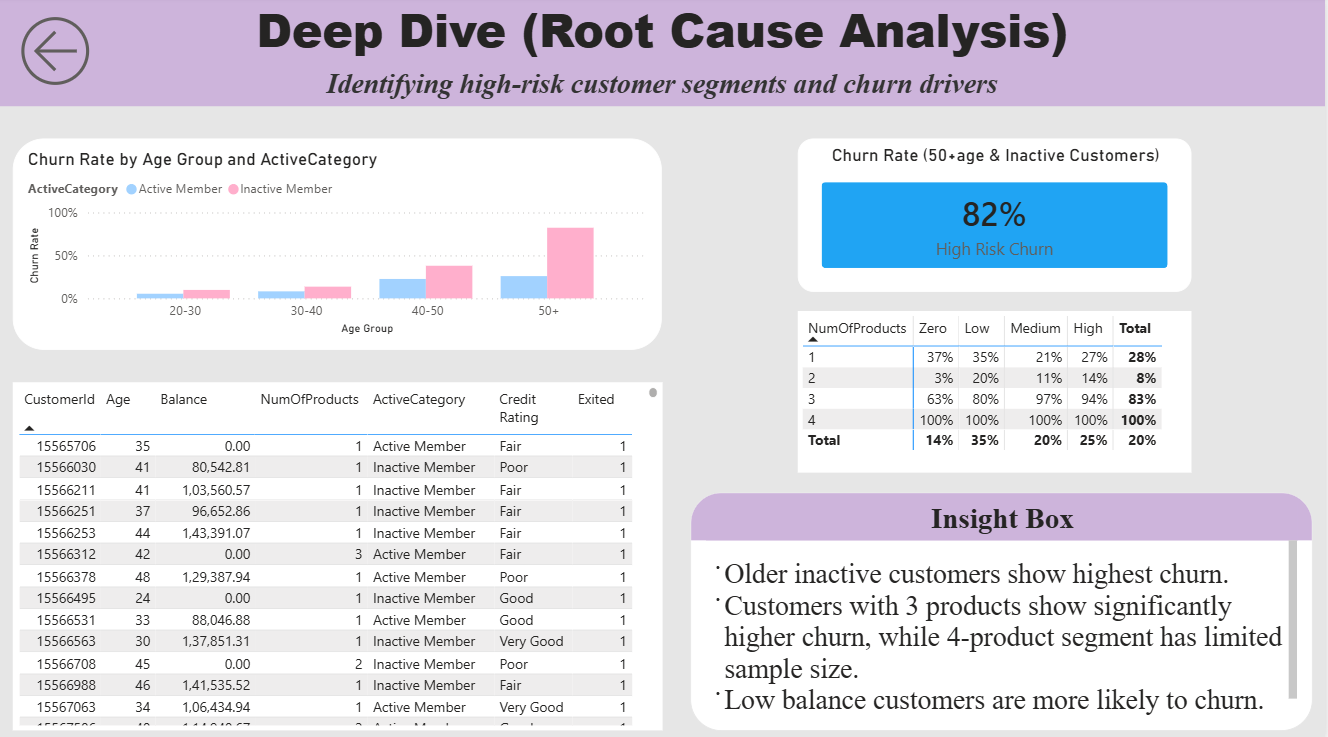

This screenshot's page, from the dashboard's own definition file:
{"tool":"powerbi","page":{"name":"Churn Drivers Analysis","canvas":[1280,720],"ordinal":2},"visuals":[{"type":"textbox","title":"Deep Dive (Root Cause Analysis)","box":[0,0,1280,106.2],"z":0},{"type":"cardVisual","title":"Churn Rate (50+age & Inactive Customers)","fields":{"Data":["Bank_Churn.High Risk Churn"]},"box":[770.9,137.5,380,148.4],"z":1000},{"type":"clusteredColumnChart","fields":{"Series":["ActiveCustomer.ActiveCategory"],"Y":["Bank_Churn.Churn Rate"],"Category":["Bank_Churn.Age Group"]},"box":[13.3,137.5,626.1,203.9],"z":2000},{"type":"pivotTable","fields":{"Rows":["Bank_Churn.NumOfProducts"],"Columns":["Bank_Churn.Balance Group"],"Values":["Bank_Churn.Churn Rate"]},"box":[770.9,304,380,155.6],"z":3000},{"type":"tableEx","fields":{"Values":["Bank_Churn.CustomerId","Bank_Churn.Age","Bank_Churn.Balance","Bank_Churn.NumOfProducts","ActiveCustomer.ActiveCategory","Bank_Churn.Credit Rating","Bank_Churn.Exited"]},"box":[13.5,373,627.3,336.3],"z":4000},{"type":"textbox","title":"Insight Box","box":[667.2,479,600.8,230.4],"z":5000},{"type":"actionButton","box":[13.3,12.1,109.8,82],"z":6000}]}

Visuals, with their boxes in screenshot pixels (x1, y1, x2, y2), scaled from the page's 1280x720 canvas onto the 1328x737 screenshot:
"Deep Dive (Root Cause Analysis)" textbox: crop(0, 0, 1327, 109)
"Churn Rate (50+age & Inactive Customers)" cardVisual: crop(800, 141, 1194, 293)
clusteredColumnChart - ActiveCustomer.ActiveCategory x Bank_Churn.Churn Rate: crop(14, 141, 663, 349)
pivotTable - Bank_Churn.NumOfProducts x Bank_Churn.Balance Group: crop(800, 311, 1194, 470)
tableEx - Bank_Churn.CustomerId x Bank_Churn.Age: crop(14, 382, 665, 726)
"Insight Box" textbox: crop(692, 490, 1316, 726)
actionButton: crop(14, 12, 128, 96)
